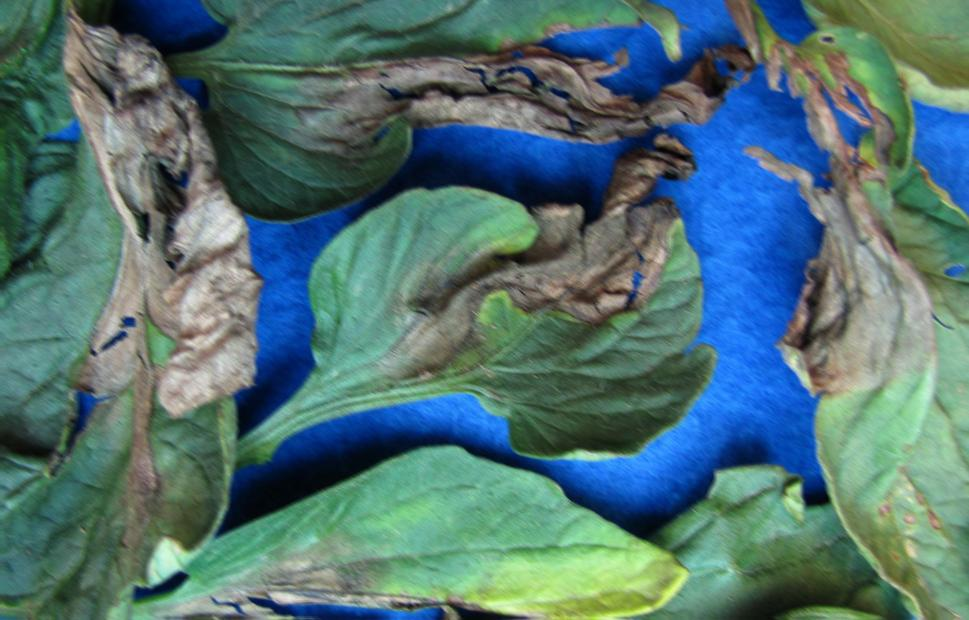Tomato leaf late blight: (0, 91, 266, 620), (126, 0, 724, 231), (258, 188, 729, 468), (753, 63, 969, 620), (122, 453, 661, 620)
